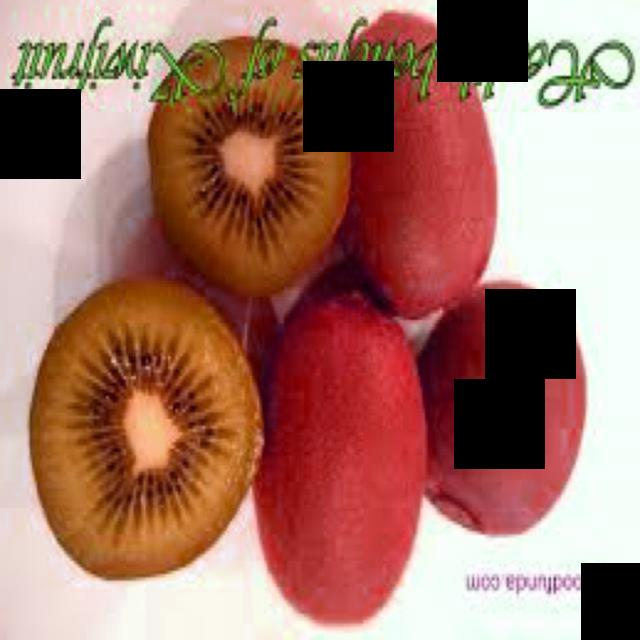kiwi: (265, 285, 421, 625), (340, 21, 493, 302), (431, 288, 594, 546)
